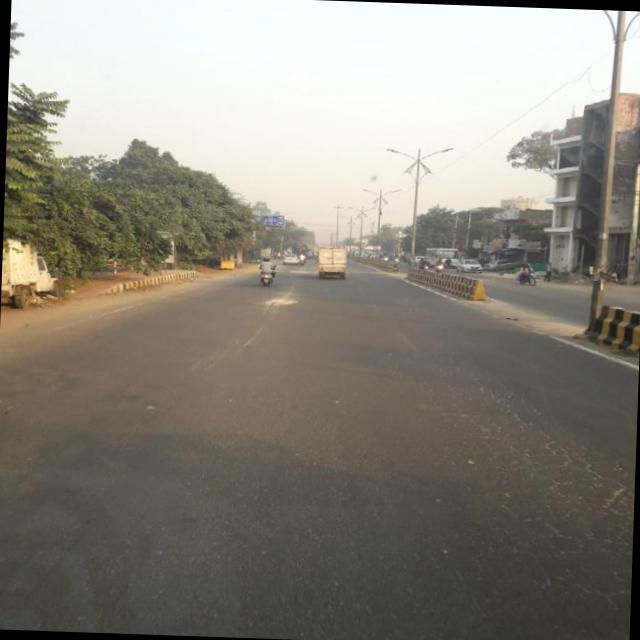crack: (385, 330, 629, 621)
pothole: (244, 292, 306, 324)
